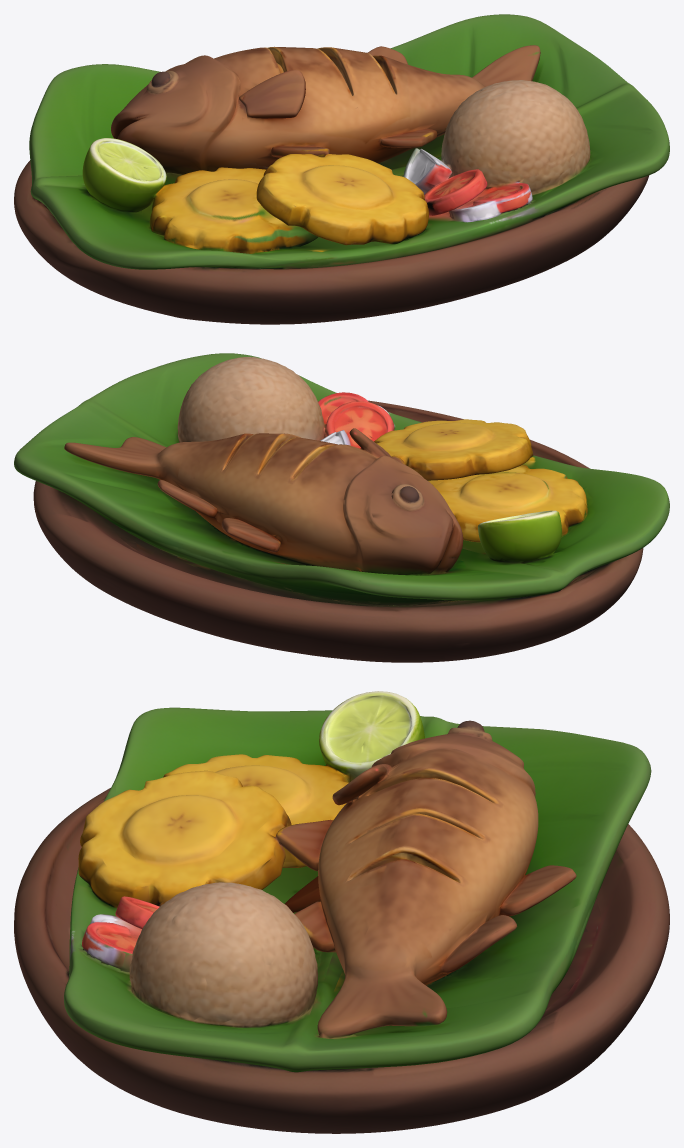
File: Pescado frito.fbx
The picture shows the model from 3 angles, top to bottom: view 1: azimuth 30°, elevation 25°; view 2: azimuth 150°, elevation 25°; view 3: azimuth 270°, elevation 25°; orthographic projection. The views are drawn at different scales.
Parts seen in each view (by area): view 1: Mesh_0; view 2: Mesh_0; view 3: Mesh_0.
Boxes of the visible parts, <box> form: Mesh_0: <box>14,14,669,324</box>; Mesh_0: <box>14,353,669,662</box>; Mesh_0: <box>14,691,669,1133</box>.
Size of the model in its own units: 116 by 29.81 by 90.31.
1 material, 1 textured.
